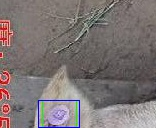text: (42, 100, 76, 128)
